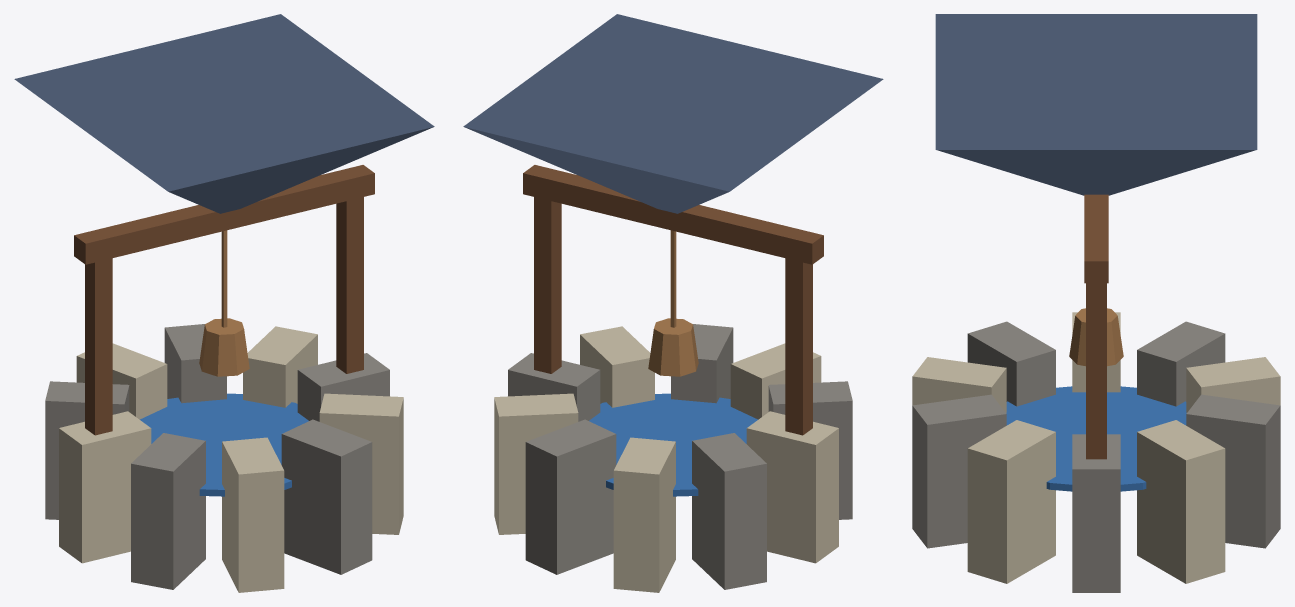
Rendered from stone_well.glb.
3 views of the same model, side by side, from view 1: azimuth 30°, elevation 25°; view 2: azimuth 150°, elevation 25°; view 3: azimuth 270°, elevation 25° (orthographic). The views are drawn at different scales.
Visible parts, largest first — view 1: RoofL, WellStone8, WellStone6, WellStone5, WellStone7, Beam, WellWater, WellStone9, Post-1, Post1, WellStone1, WellStone4 (+5 smaller); view 2: RoofL, WellStone2, WellStone4, WellStone5, WellStone3, Beam, WellWater, WellStone1, Post-1, Post1, WellStone9, WellStone6 (+5 smaller); view 3: RoofL, WellStone1, WellStone9, WellStone2, WellStone8, WellWater, WellStone0, WellStone4, WellStone6, Post1, WellStone3, WellStone7 (+3 smaller).
Part boxes in pixels (x1,y1,x2,y2): RoofL: (14, 14, 434, 213); WellStone8: (281, 419, 372, 574); WellStone6: (131, 433, 205, 589); WellStone5: (59, 411, 151, 563); WellStone7: (222, 437, 284, 592); Beam: (74, 165, 374, 264); WellWater: (140, 393, 308, 496); WellStone9: (319, 393, 403, 534); Post-1: (85, 258, 112, 435); Post1: (336, 197, 363, 373); WellStone1: (243, 326, 317, 407); WellStone4: (45, 381, 129, 519); RoofL: (463, 14, 883, 213); WellStone2: (525, 419, 616, 574); WellStone4: (692, 433, 766, 589); WellStone5: (746, 411, 838, 563); WellStone3: (613, 437, 675, 592); Beam: (523, 165, 823, 264); WellWater: (589, 393, 757, 496); WellStone1: (494, 393, 578, 534); Post-1: (785, 258, 812, 435); Post1: (534, 197, 561, 373); WellStone9: (580, 326, 654, 407); WellStone6: (768, 381, 852, 519); RoofL: (935, 14, 1257, 195); WellStone1: (1137, 420, 1225, 583); WellStone9: (967, 420, 1055, 583); WellStone2: (1186, 394, 1280, 548); WellStone8: (912, 394, 1006, 548); WellWater: (1006, 386, 1186, 491); WellStone0: (1072, 434, 1120, 592); WellStone4: (1137, 321, 1225, 406); WellStone6: (967, 321, 1055, 406); Post1: (1086, 283, 1106, 459); WellStone3: (1186, 357, 1280, 412); WellStone7: (912, 357, 1006, 412).
Size of the model in its own units: 2.45 by 3.15 by 2.43.
